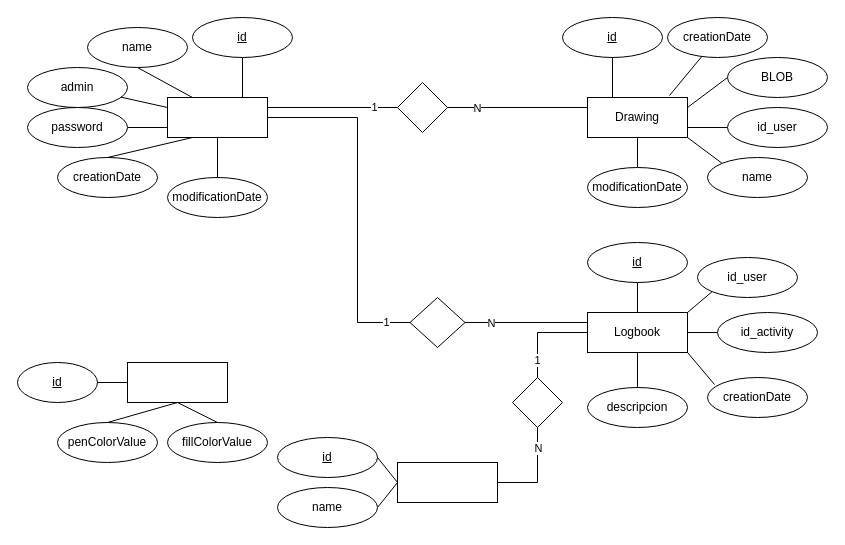
Some shapes in this 845 by 545 pixel diagram are drawn without their labels. Each missing label, with the box of its shape:
Activity: (396, 462, 498, 502)
Configuration: (126, 362, 228, 402)
draw: (396, 82, 448, 132)
has: (512, 376, 562, 428)
register: (409, 296, 465, 348)
User: (166, 96, 268, 138)
